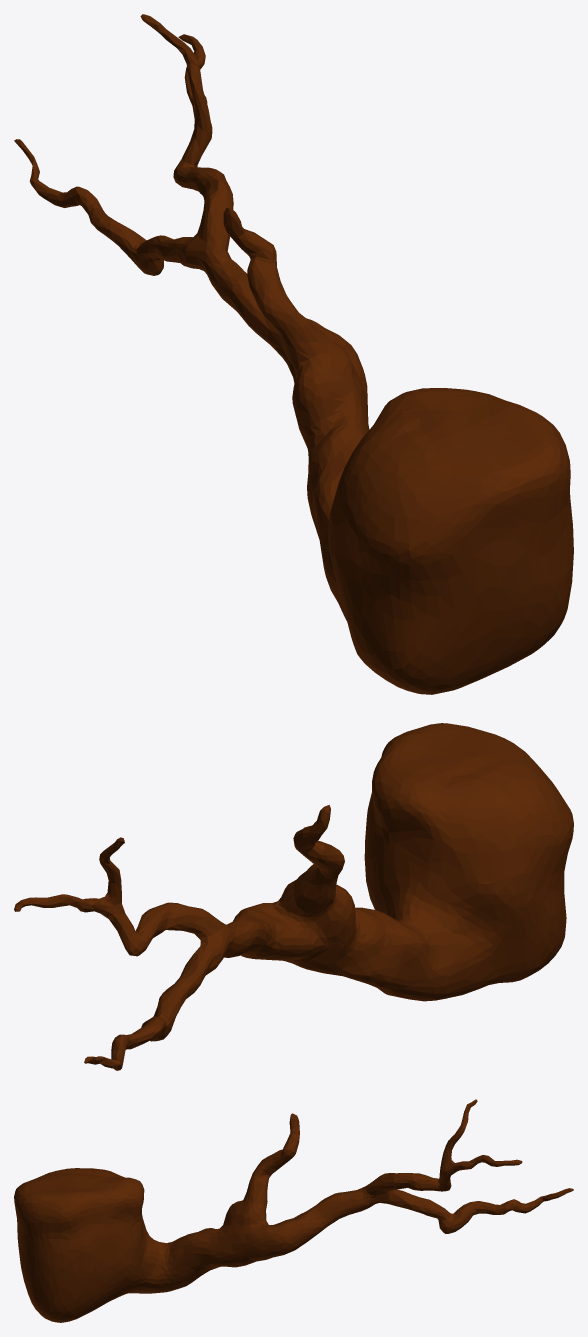
File: branch.fbx
3 views of the same model, one above another, from view 1: azimuth 30°, elevation 25°; view 2: azimuth 150°, elevation 25°; view 3: azimuth 270°, elevation 25° (orthographic). The views are drawn at different scales.
Parts seen in each view (by area): view 1: Branch; view 2: Branch; view 3: Branch.
Boxes of the visible parts, <box> form: Branch: <box>14,14,573,694</box>; Branch: <box>14,723,573,1070</box>; Branch: <box>14,1099,573,1322</box>.
Bounding box in the file's own units: 240 × 403 × 900.
